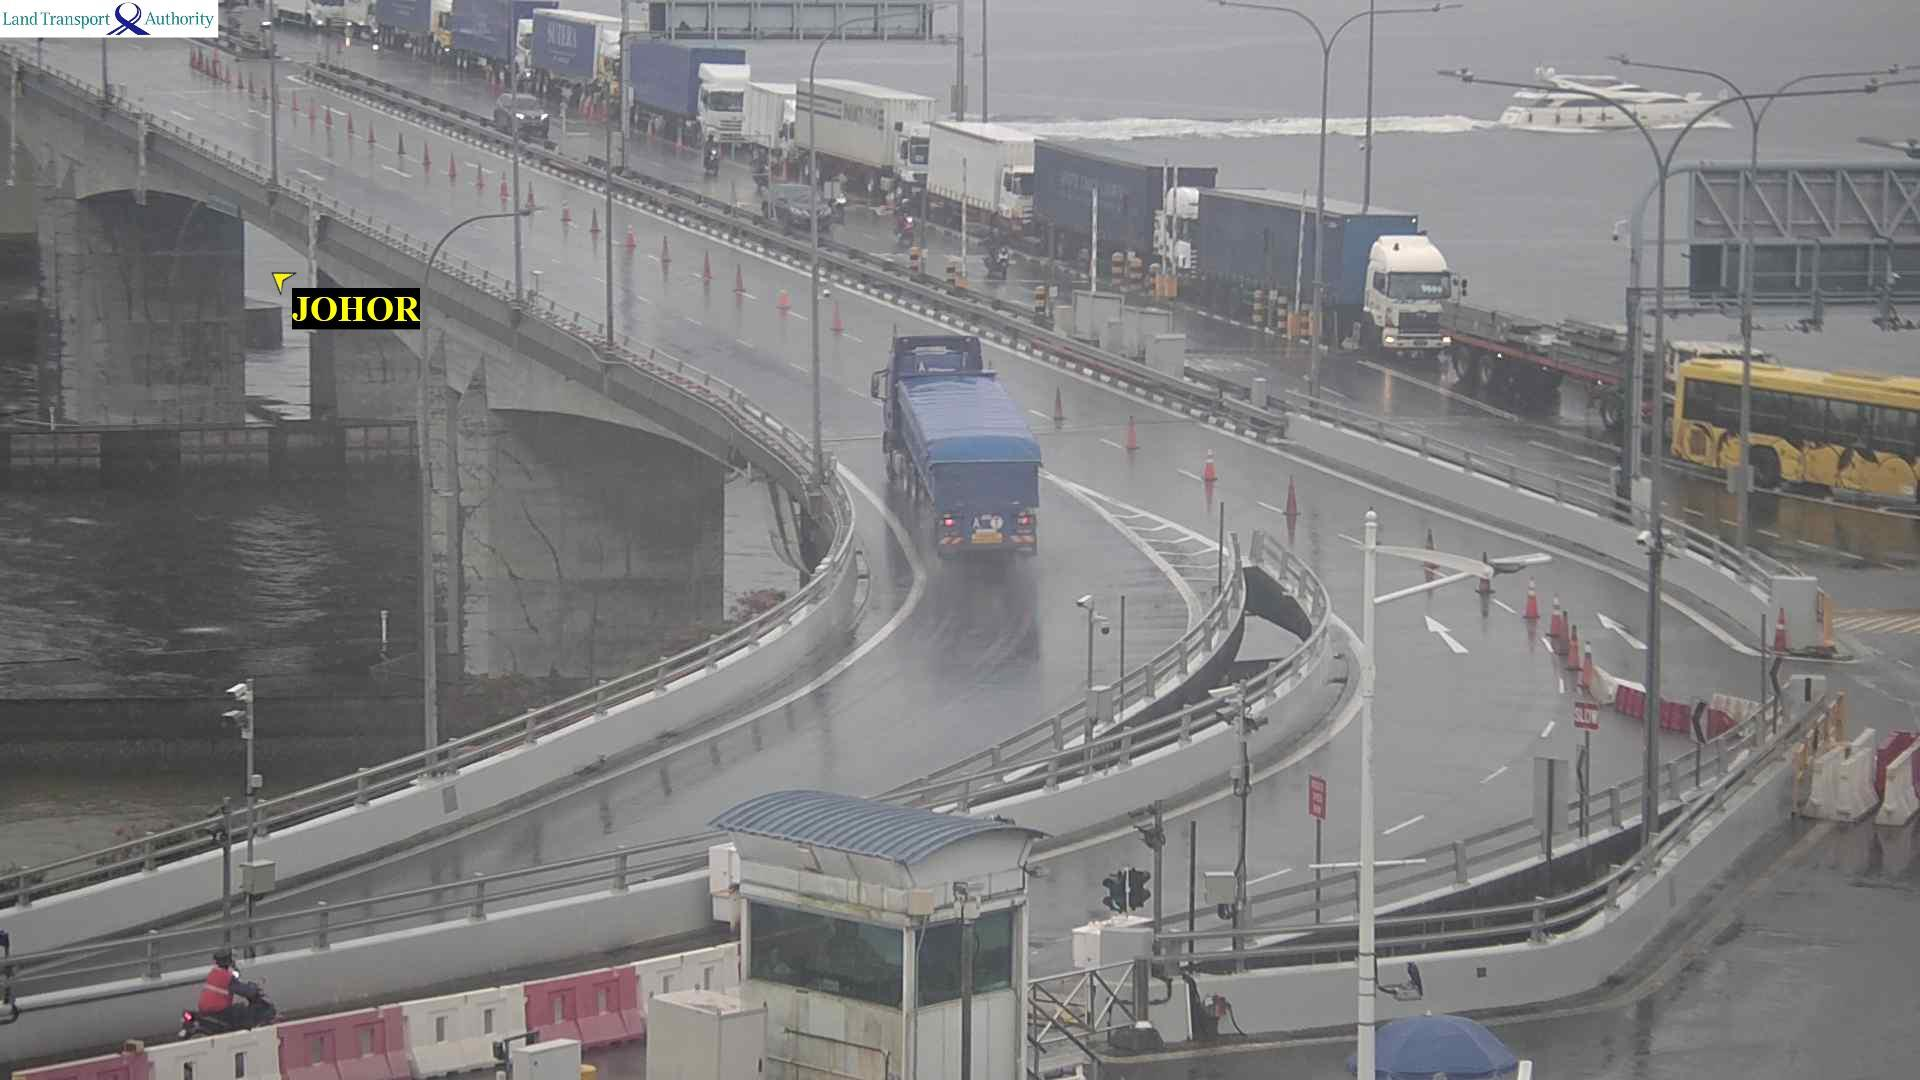vehicle-secondlink-johor: (882, 323, 1042, 543), (179, 961, 280, 1040)
vehicle-secondlink-singapore: (1199, 189, 1473, 357), (1685, 359, 1920, 491), (1038, 132, 1213, 285), (529, 7, 762, 107), (791, 74, 931, 203), (277, 0, 373, 30), (493, 94, 554, 128), (898, 212, 920, 253), (989, 225, 1007, 273)
